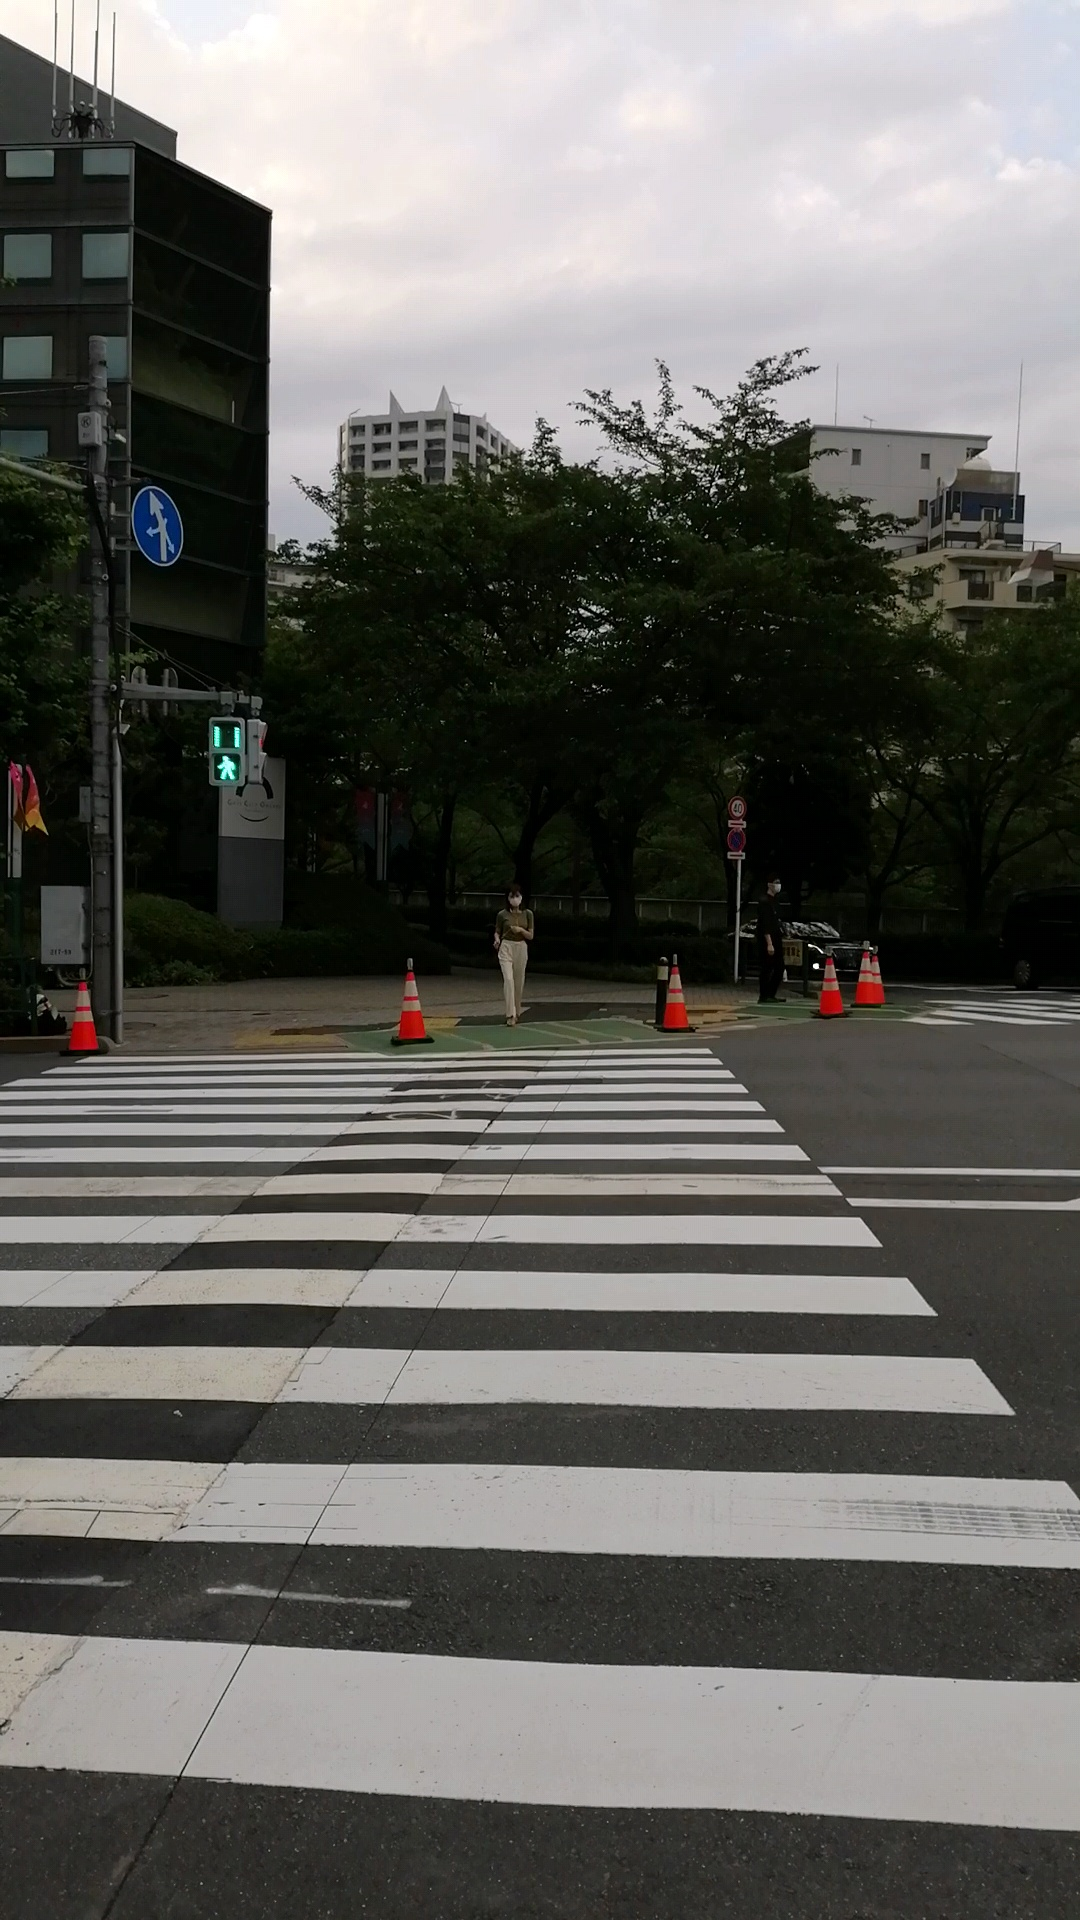green: (207, 717, 243, 785)
